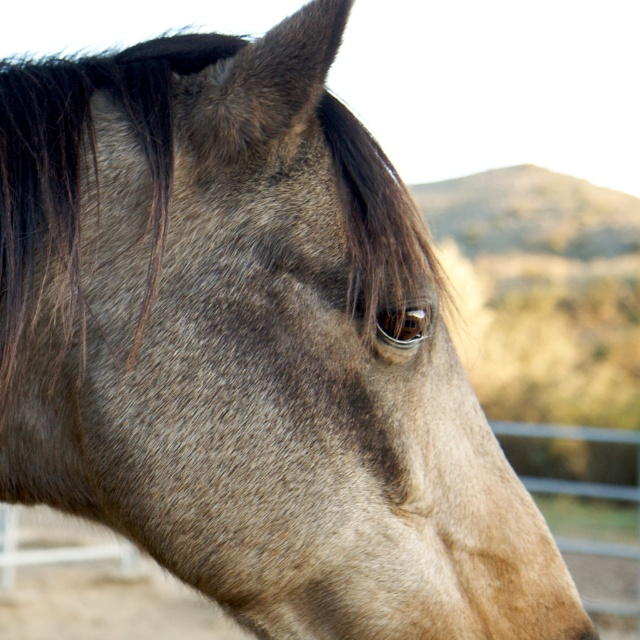Horse: (0, 0, 602, 640)
